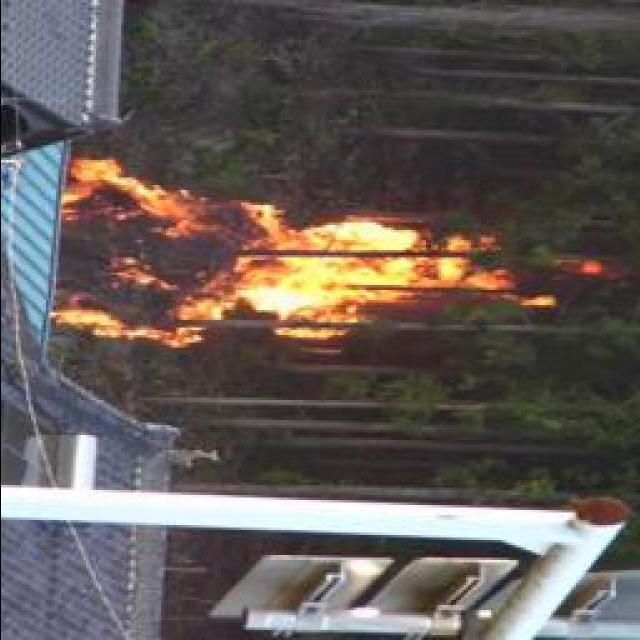Fire: (51, 158, 514, 344)
